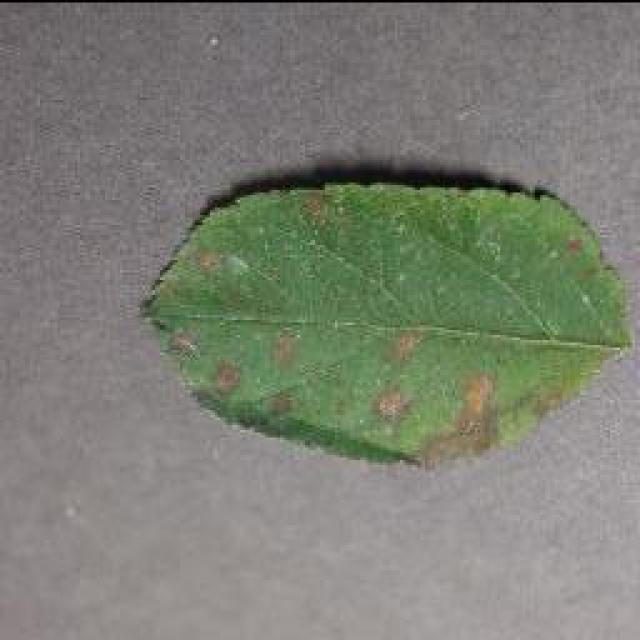apple rust disease: (138, 162, 632, 472)
